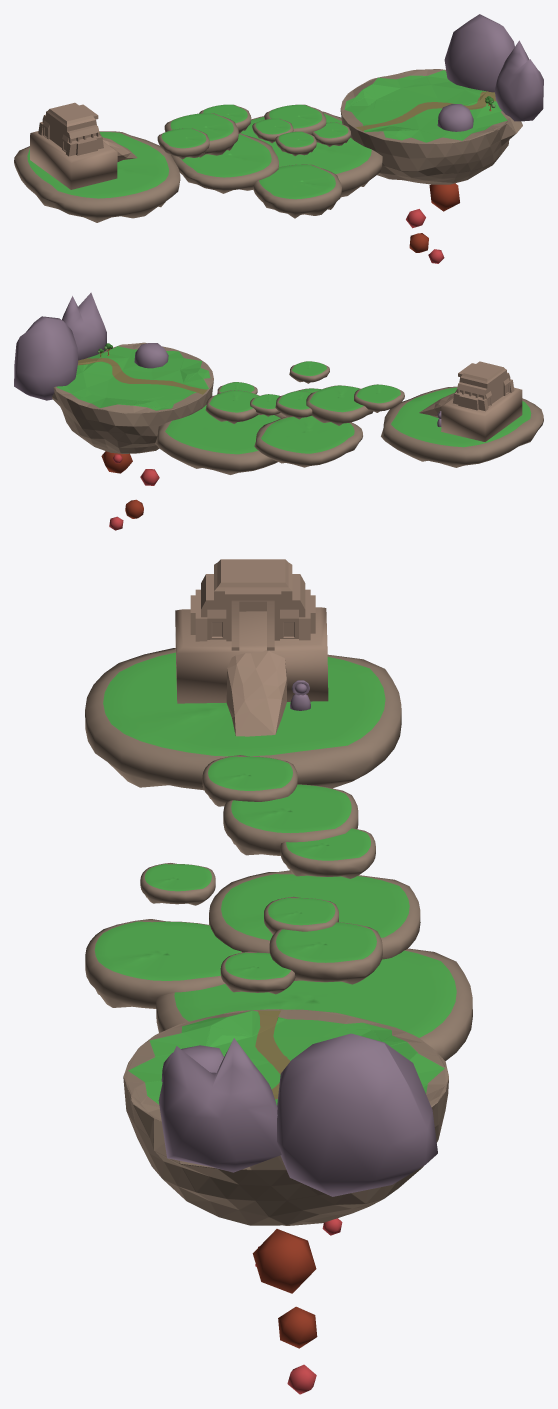
Rendered from IslandPlusTemple.obj.
The picture shows the model from 3 angles, top to bottom: view 1: azimuth 30°, elevation 25°; view 2: azimuth 150°, elevation 25°; view 3: azimuth 270°, elevation 25°; orthographic projection. The views are drawn at different scales.
Parts seen in each view (by area): view 1: island, FirstIsland.010, rock, FirstIsland.007, FirstIsland.009, FirstIsland.008, 立方体, TempleDoor_E.001, FirstIsland.005, FirstIsland.006, FirstIsland, ICO球 (+7 smaller); view 2: island, FirstIsland.010, rock, FirstIsland.008, FirstIsland.007, 立方体, TempleDoor_E.001, FirstIsland.005, FirstIsland, FirstIsland.006, FirstIsland.004, ICO球 (+6 smaller); view 3: rock, FirstIsland.010, island, FirstIsland.008, FirstIsland.007, FirstIsland.009, TempleDoor_E.001, 立方体, FirstIsland.005, FirstIsland, ICO球.004, FirstIsland.006 (+6 smaller).
Part boxes in pixels (x1,y1,x2,y2): island: (340, 69, 522, 184); FirstIsland.010: (14, 131, 180, 222); rock: (444, 14, 543, 121); FirstIsland.007: (171, 133, 278, 193); FirstIsland.009: (253, 164, 341, 218); FirstIsland.008: (241, 111, 382, 197); 立方体: (30, 131, 117, 189); TempleDoor_E.001: (38, 102, 103, 156); FirstIsland.005: (164, 113, 238, 157); FirstIsland.006: (157, 128, 209, 159); FirstIsland: (264, 104, 326, 134); ICO球: (437, 104, 473, 131); island: (52, 342, 213, 453); FirstIsland.010: (381, 386, 543, 467); rock: (14, 292, 106, 400); FirstIsland.008: (155, 405, 280, 474); FirstIsland.007: (254, 415, 362, 467); 立方体: (441, 387, 522, 441); TempleDoor_E.001: (453, 361, 514, 411); FirstIsland.005: (306, 385, 373, 425); FirstIsland: (205, 390, 259, 423); FirstIsland.006: (354, 384, 404, 412); FirstIsland.004: (275, 390, 312, 419); ICO球: (134, 343, 168, 368); rock: (158, 1033, 437, 1196); FirstIsland.010: (85, 648, 401, 790); island: (123, 1009, 448, 1225); FirstIsland.008: (156, 948, 472, 1060); FirstIsland.007: (209, 870, 420, 959); FirstIsland.009: (85, 919, 242, 1008); TempleDoor_E.001: (190, 559, 315, 650); 立方体: (175, 607, 328, 703); FirstIsland.005: (223, 784, 358, 855); FirstIsland: (269, 922, 382, 984); ICO球.004: (226, 650, 287, 736); FirstIsland.006: (202, 755, 297, 806).
Bounding box in the file's own units: 986 × 471 × 348.
